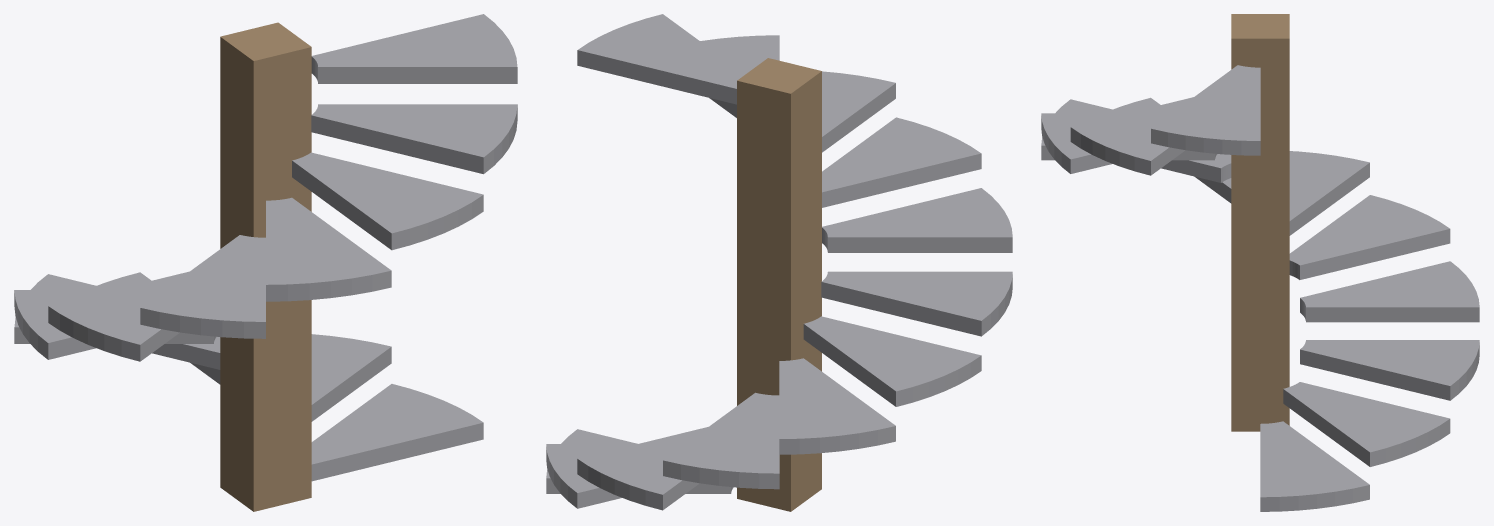
Rendered from SpiralStaircaseOpen.glb.
The picture shows the model from 3 angles, left to right: view 1: azimuth 30°, elevation 25°; view 2: azimuth 150°, elevation 25°; view 3: azimuth 270°, elevation 25°; orthographic projection. The views are drawn at different scales.
Visible parts, largest first — view 1: spiral_staircase_open; view 2: spiral_staircase_open; view 3: spiral_staircase_open.
Boxes of the visible parts, <box> form: spiral_staircase_open: <box>14,14,517,511</box>; spiral_staircase_open: <box>546,14,1012,511</box>; spiral_staircase_open: <box>1041,14,1479,511</box>.
Size of the model in its own units: 2.7 by 2.67 by 2.7.
